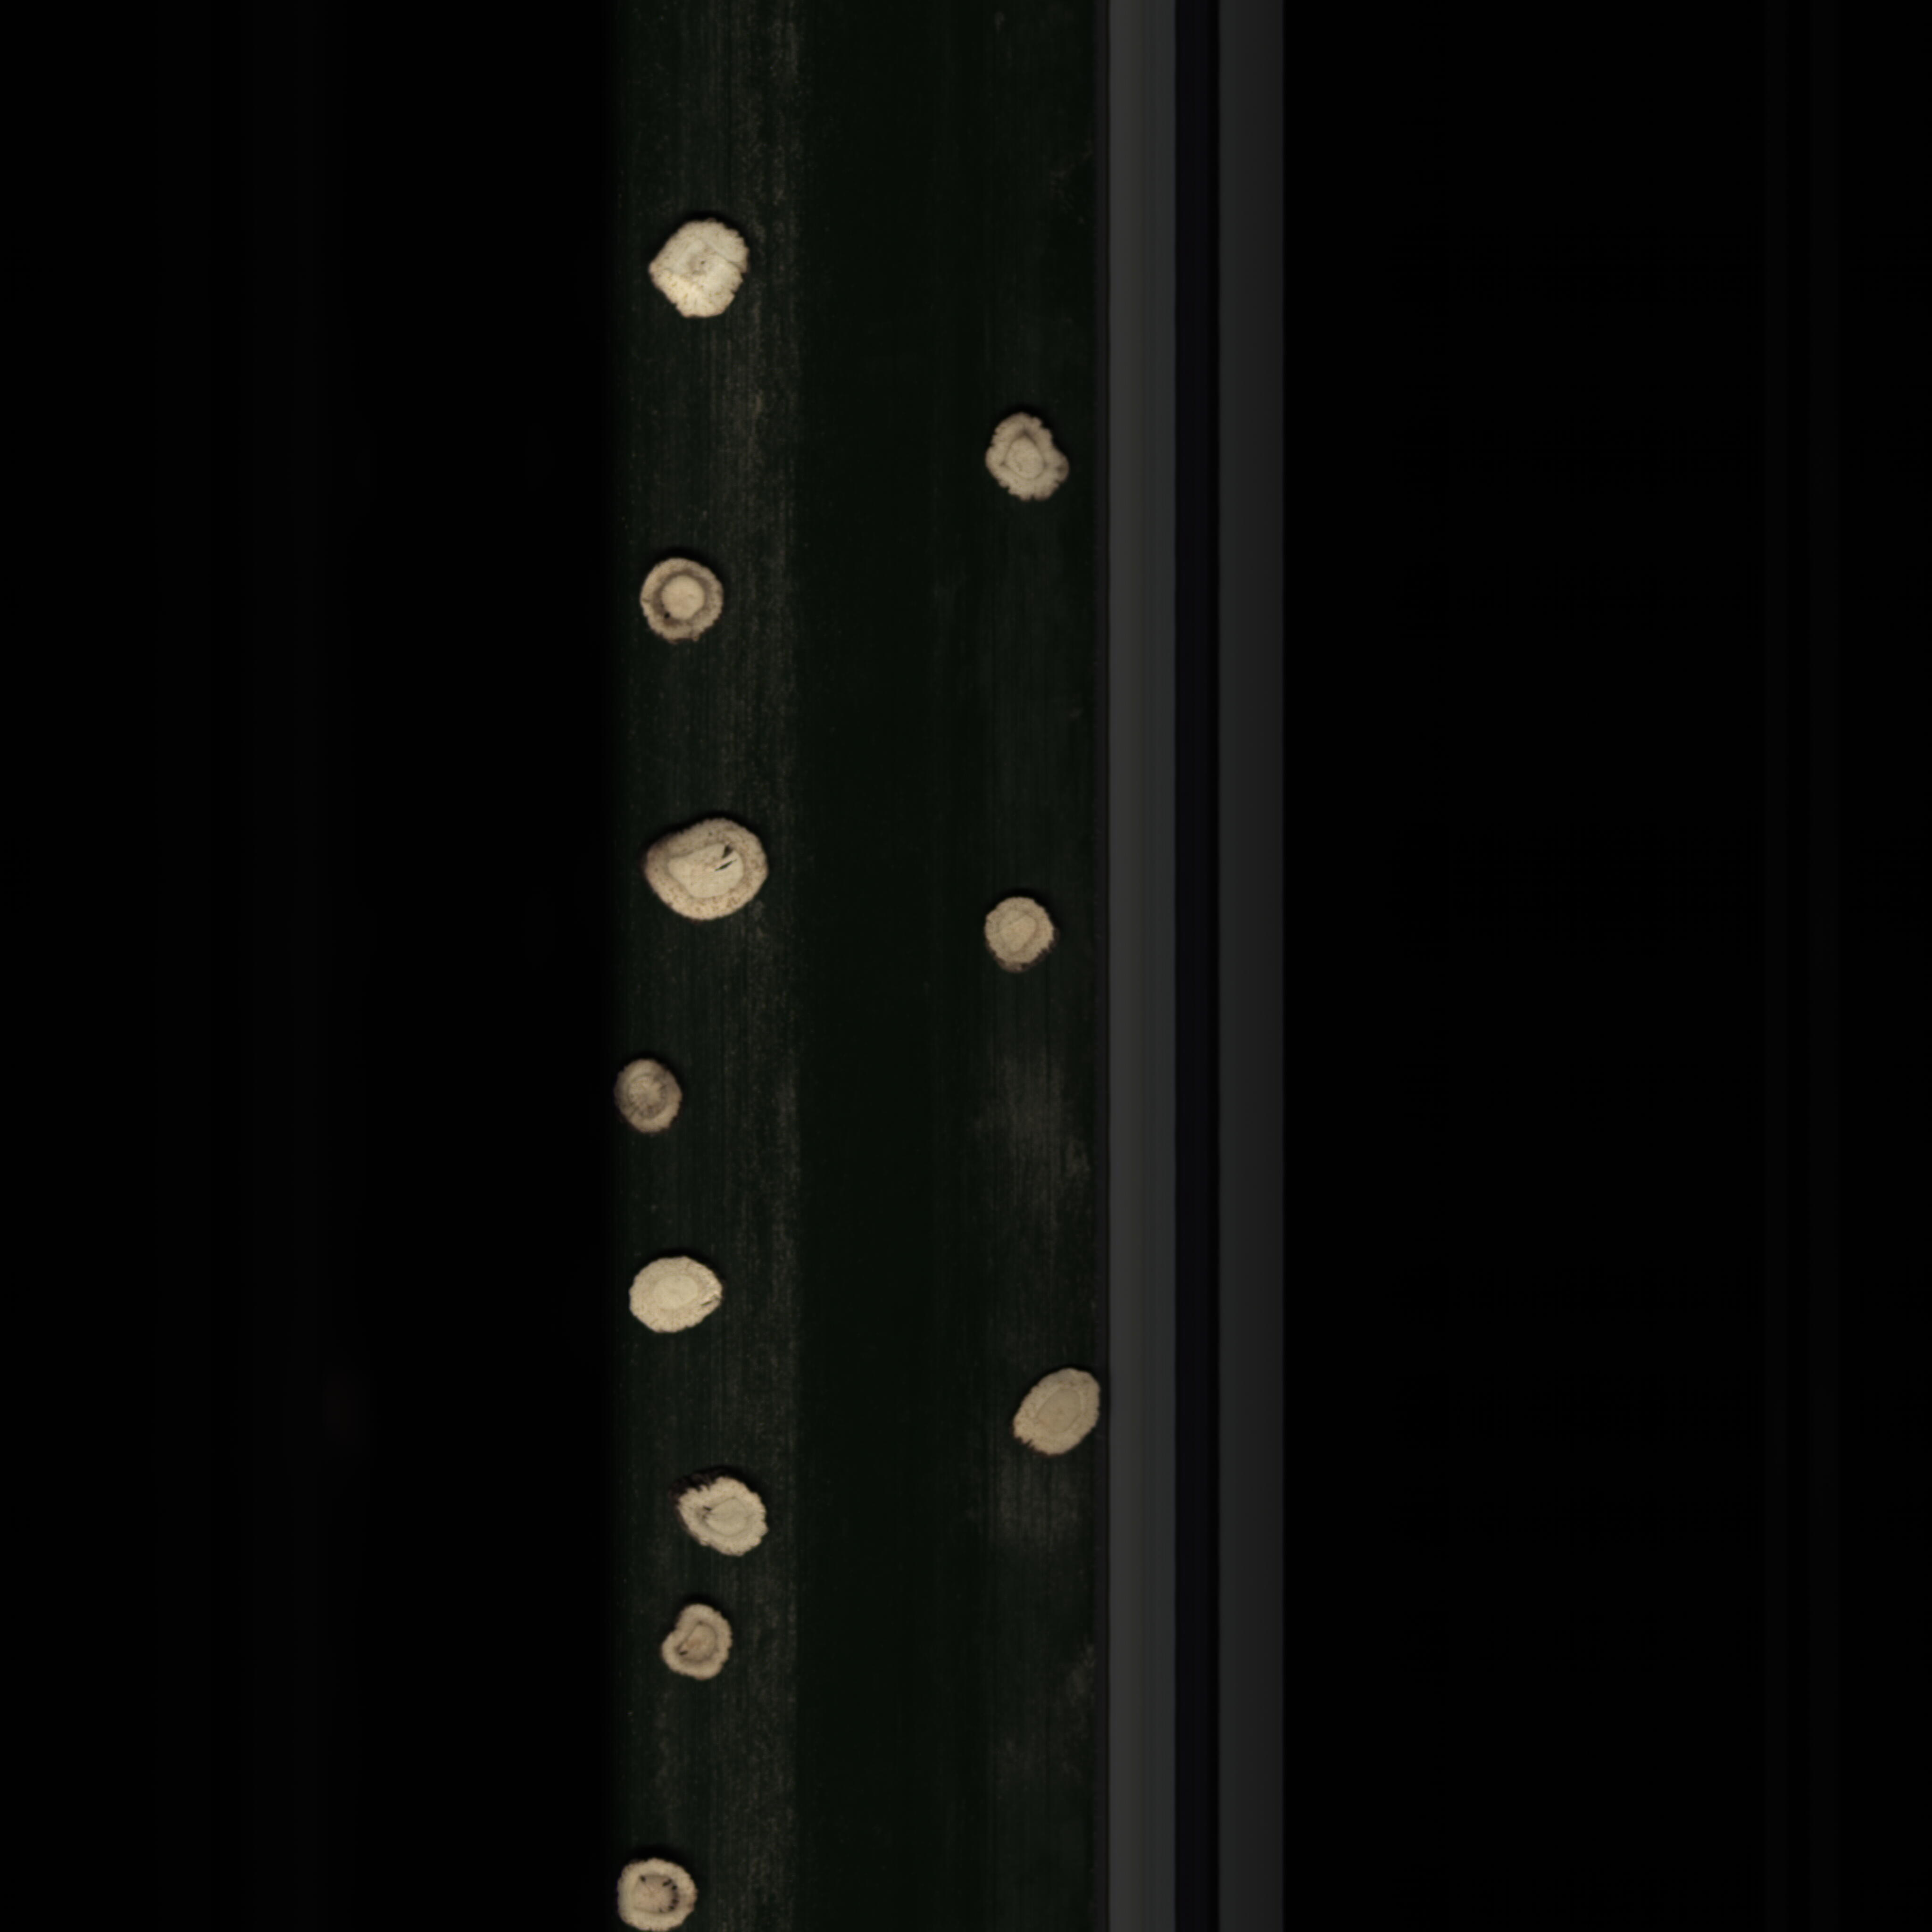hole: (614, 1852, 713, 1932)
moldy: (626, 550, 736, 651), (977, 407, 1072, 508), (656, 1601, 741, 1693), (610, 1049, 688, 1136)
